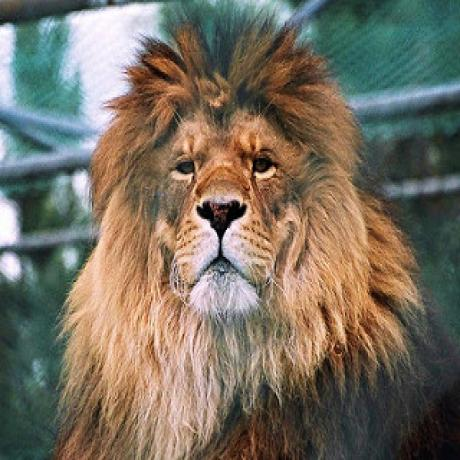Lion: (57, 3, 422, 460)
